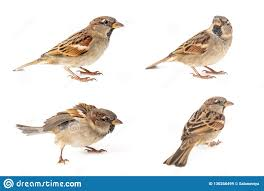hsparrow: (10, 14, 128, 94), (16, 99, 125, 171), (141, 9, 236, 81), (157, 94, 241, 170)
